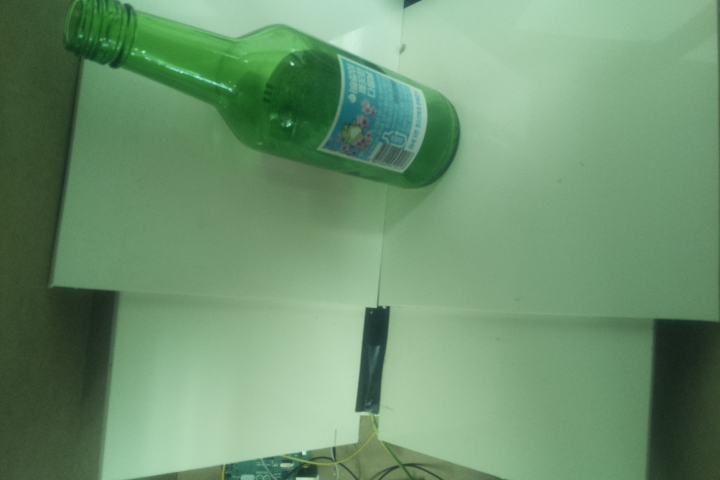soju: (61, 1, 462, 191)
